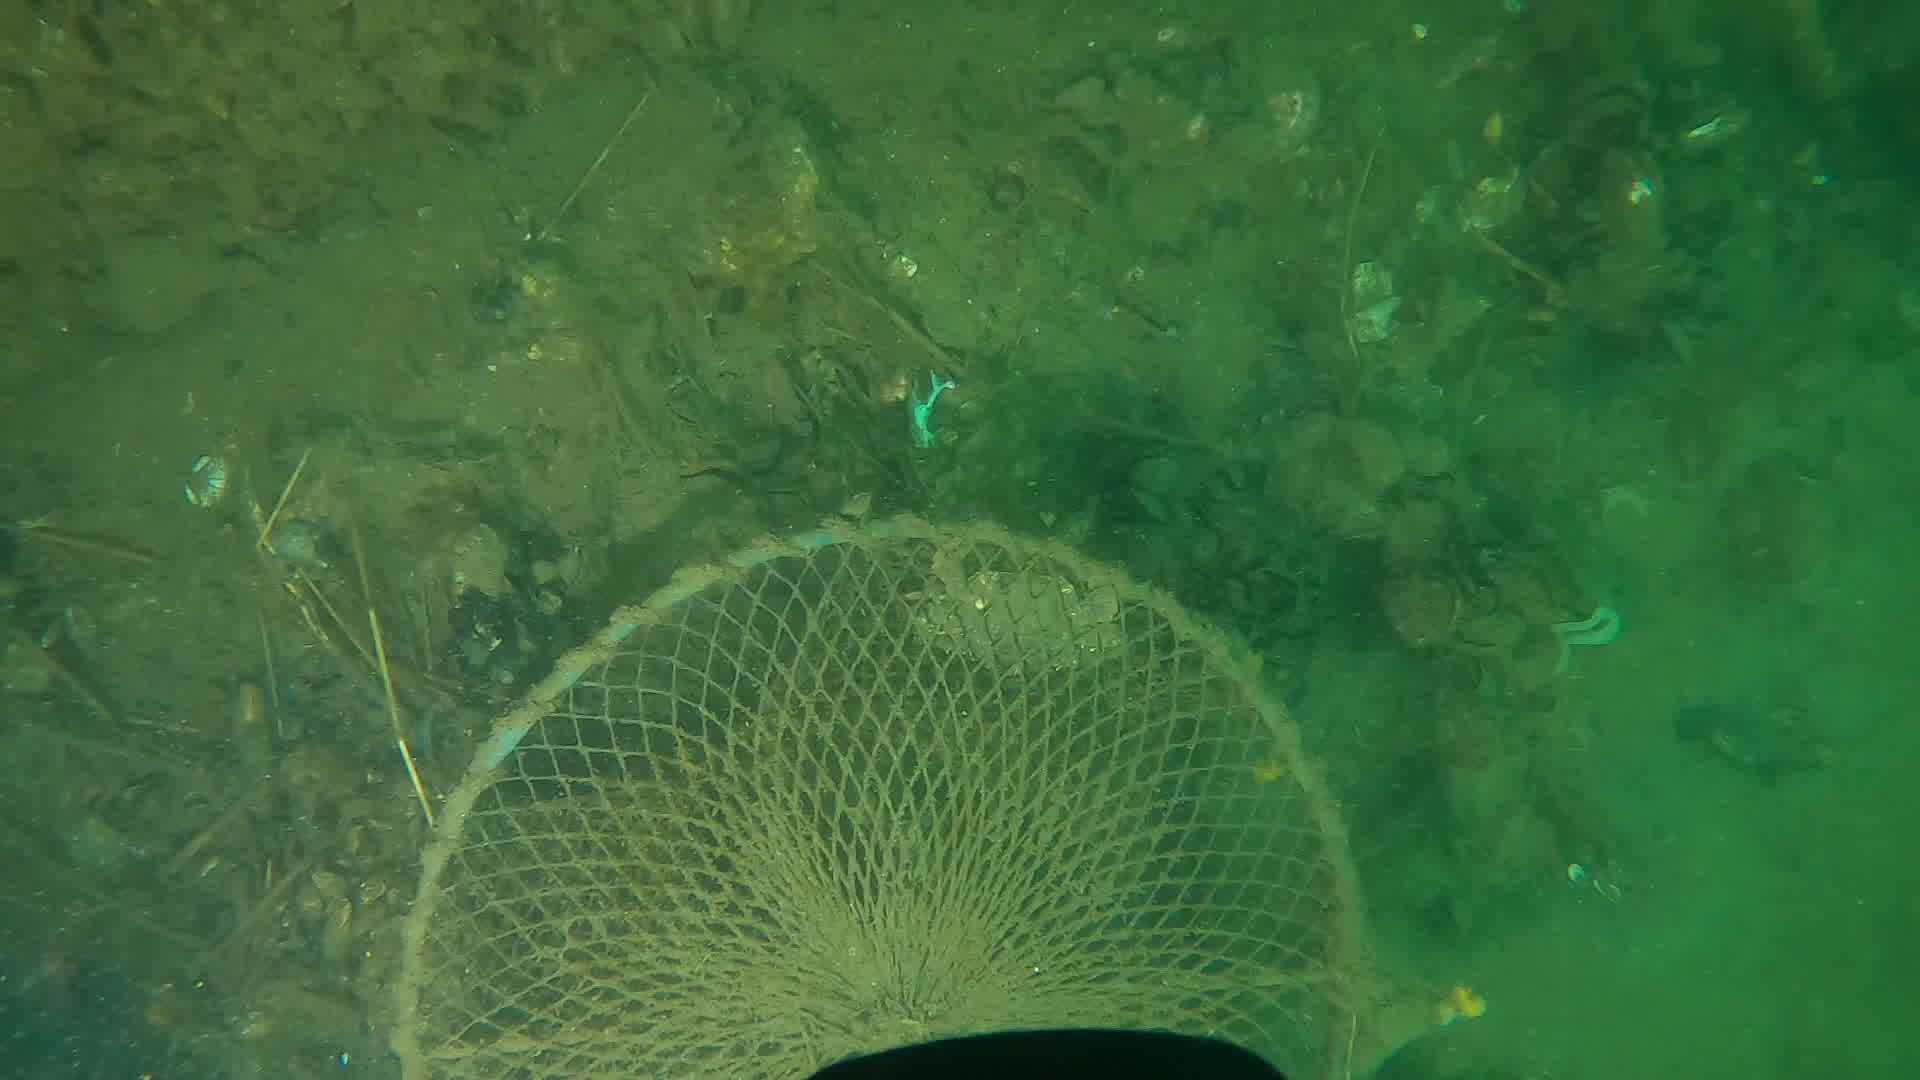circular fish trap: (393, 518, 1374, 1080)
